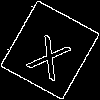X: (25, 25, 78, 82)
